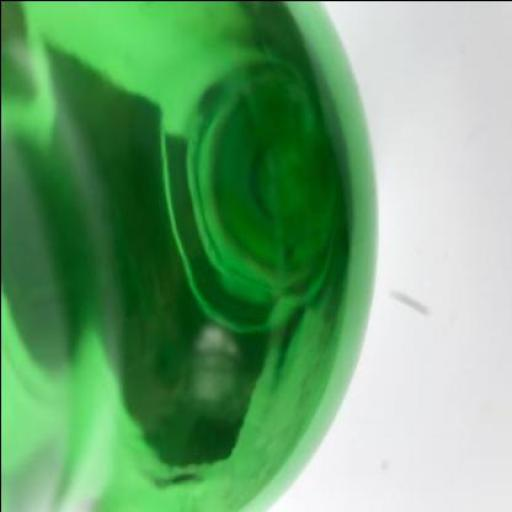glass: (0, 1, 375, 510)
